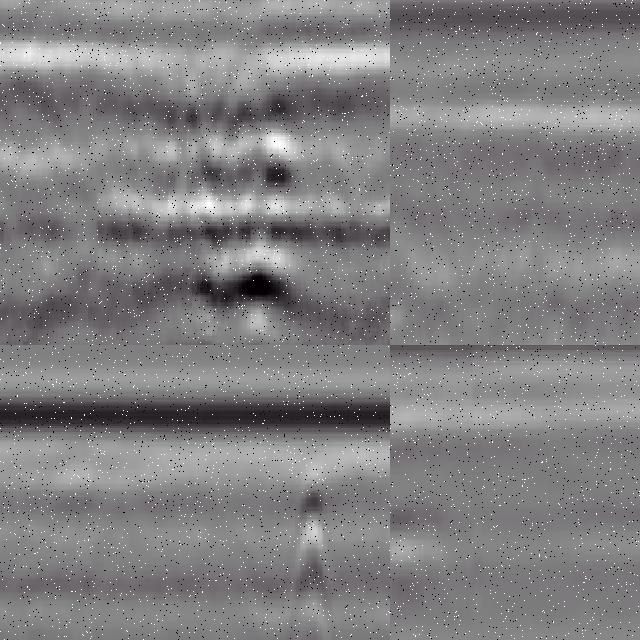crack: (290, 453, 326, 640)
loose: (135, 72, 320, 346), (391, 463, 510, 612)
